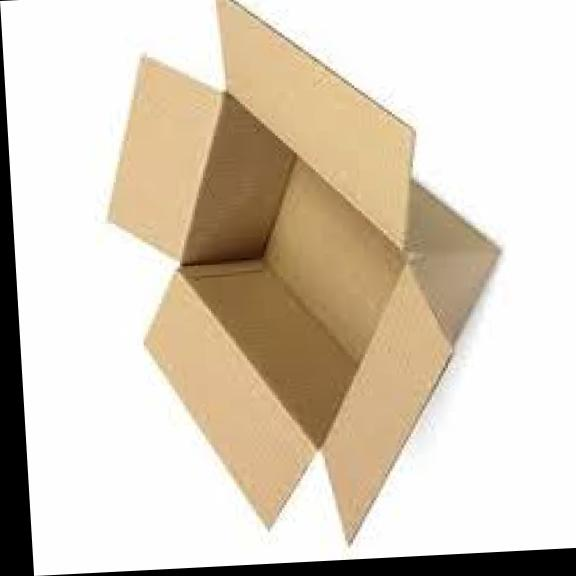Kertas: (110, 0, 495, 539)
